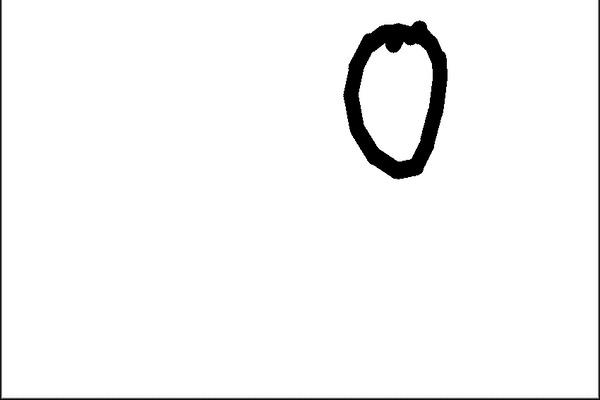O: (335, 13, 455, 189)
